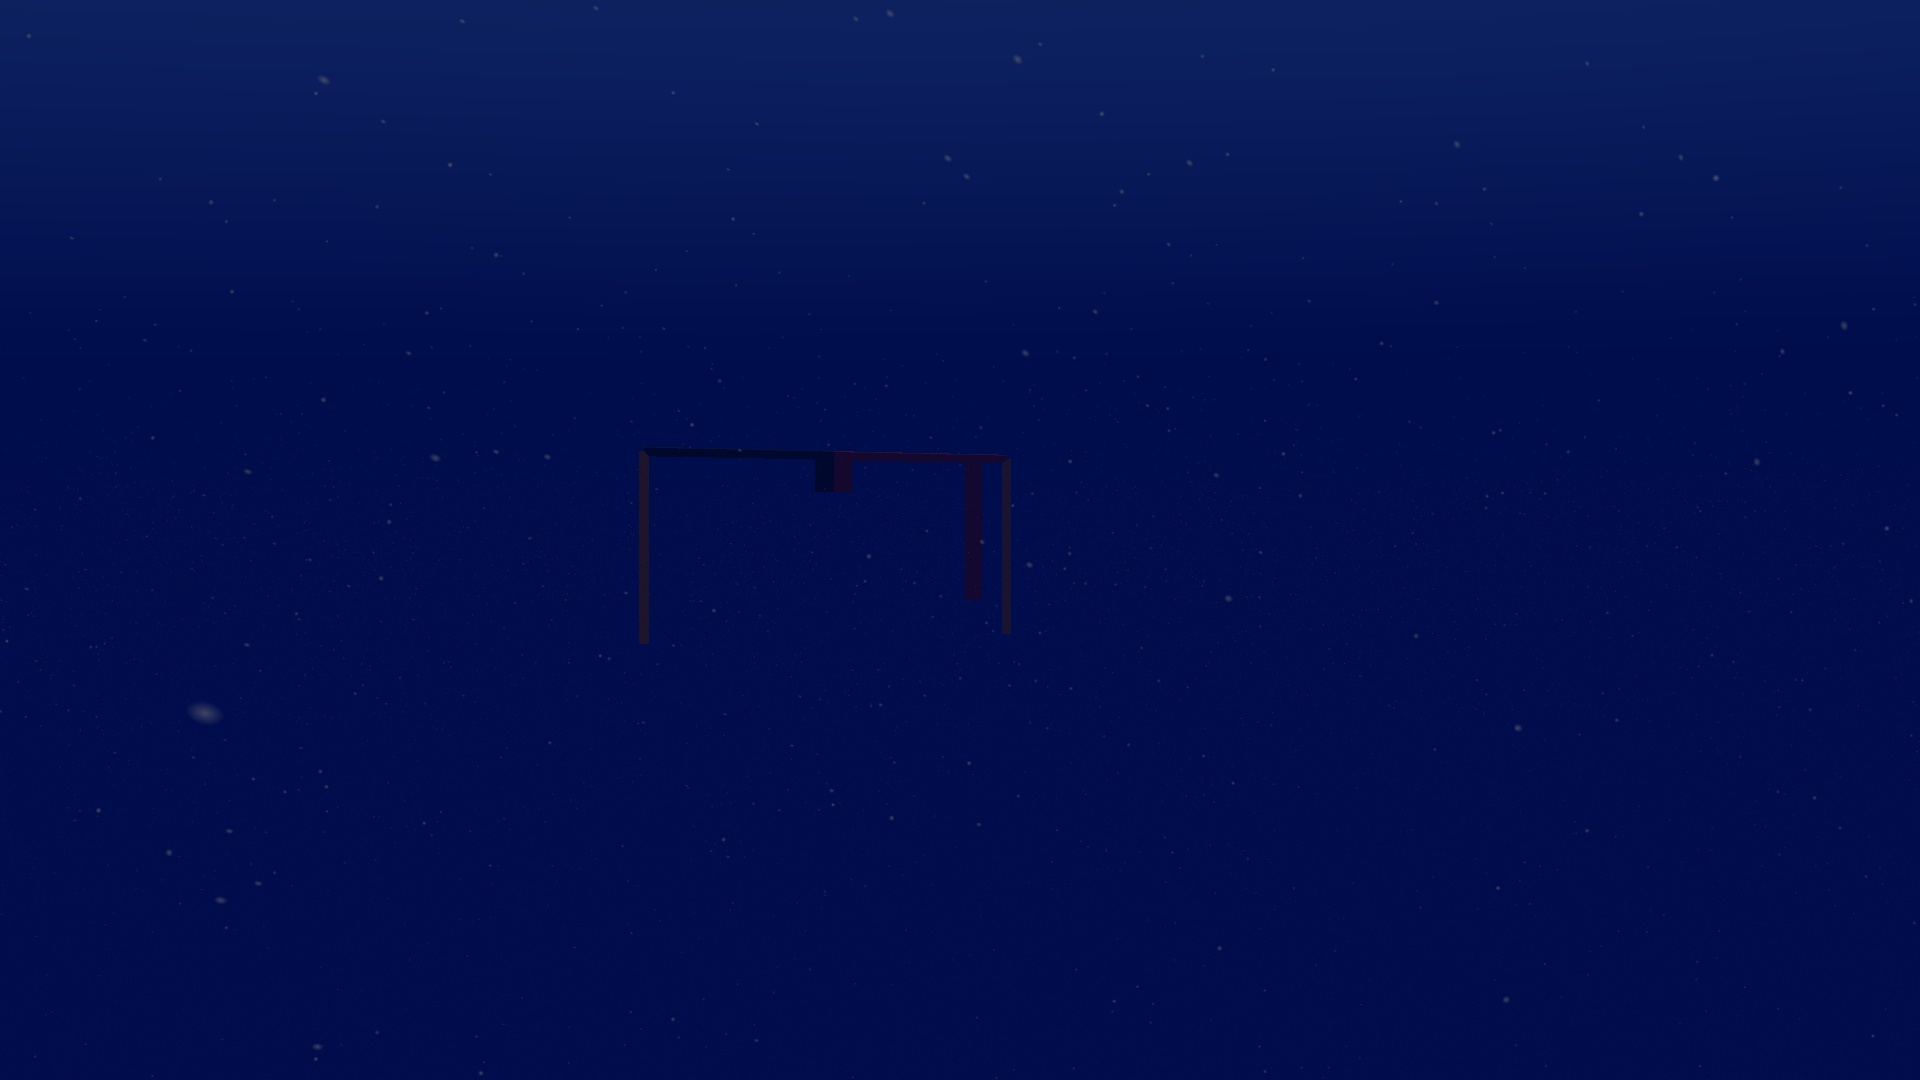Gate: (626, 440, 1023, 654)
